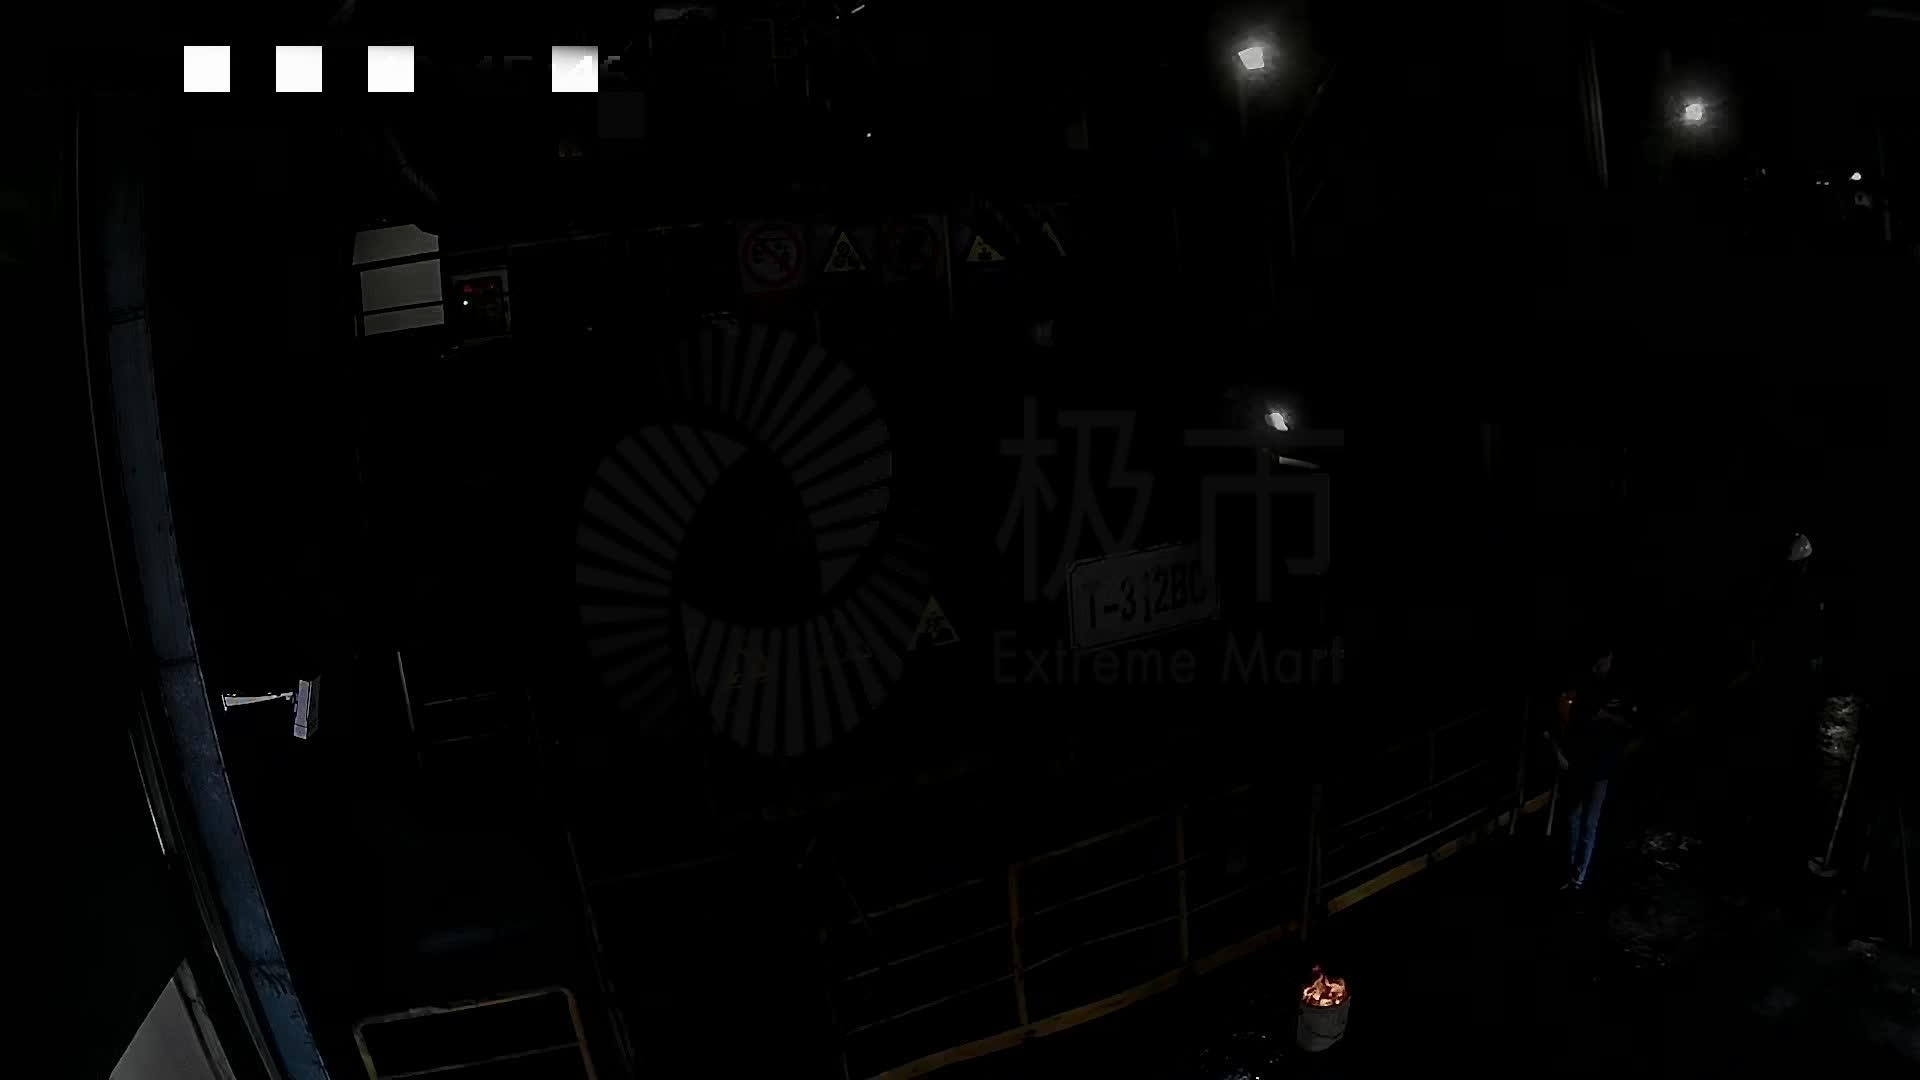fire: (1296, 964, 1353, 1013)
